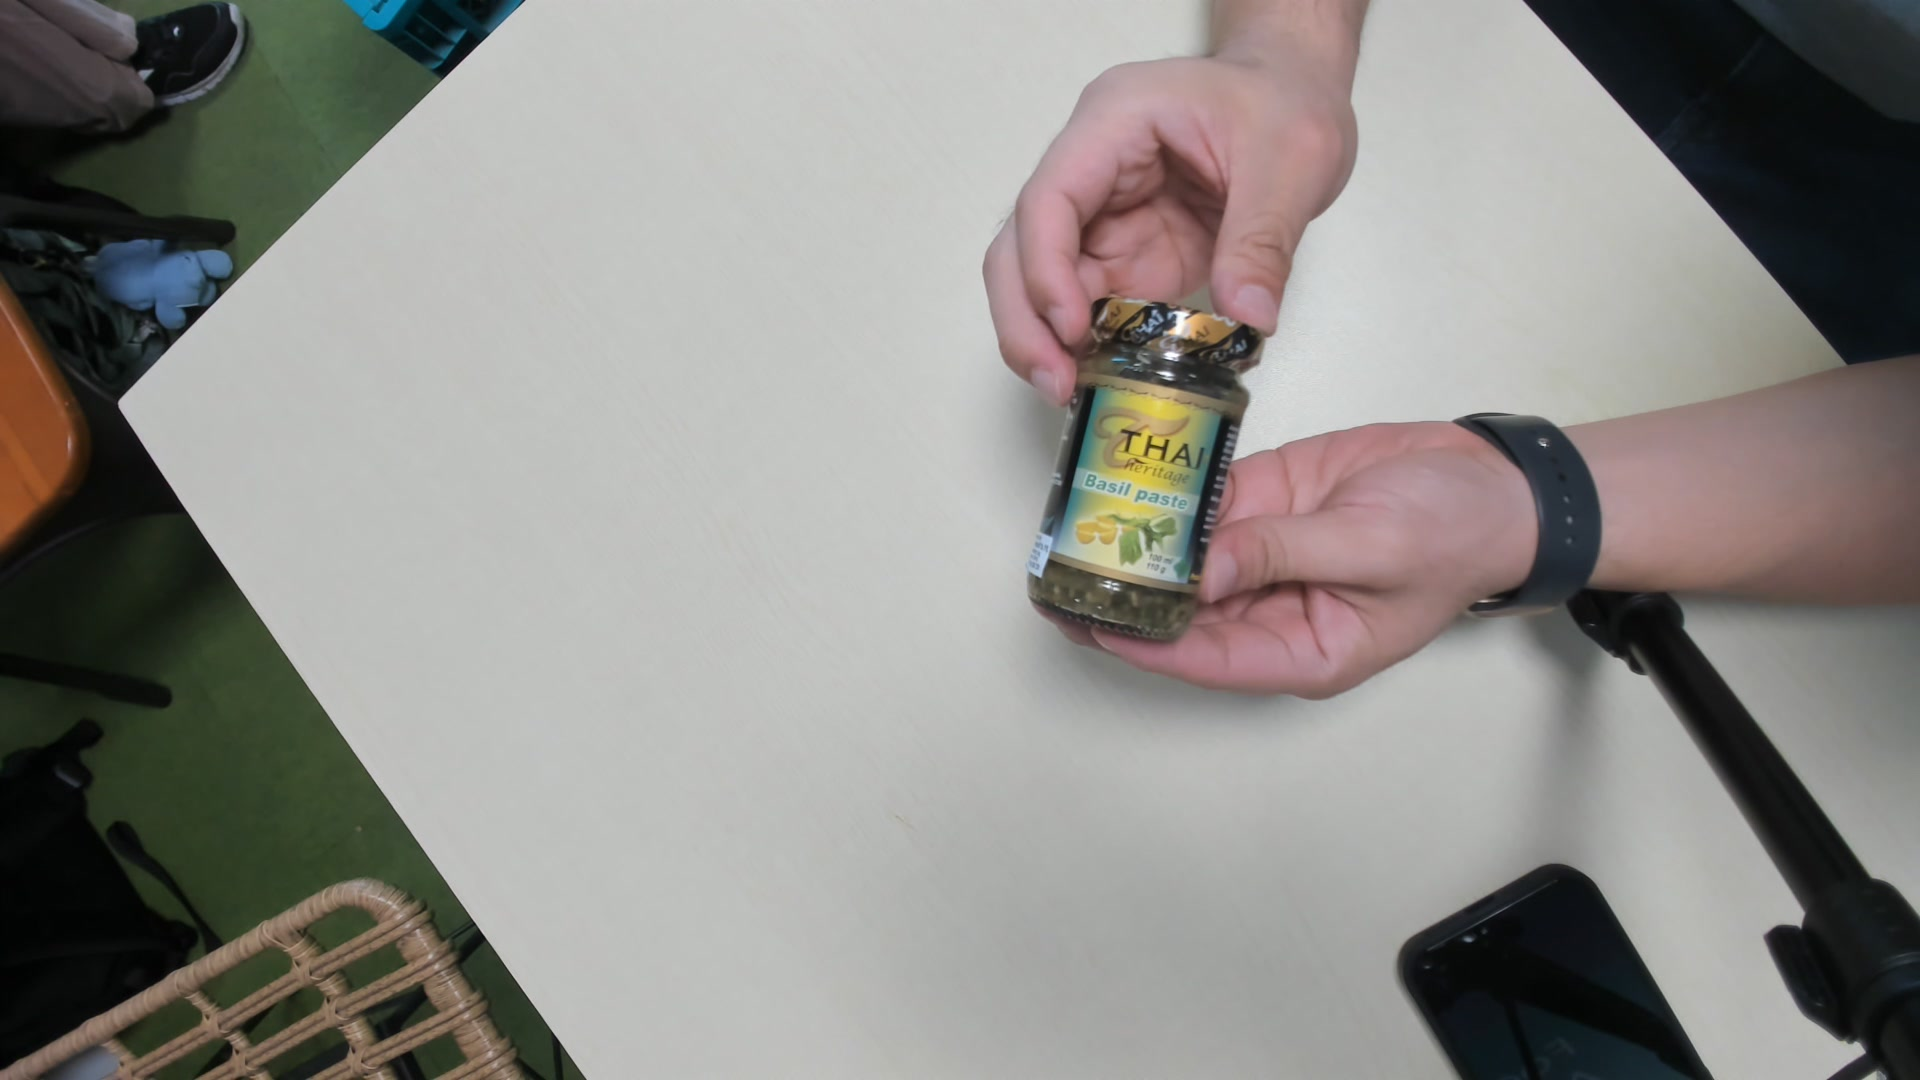OtherSauceDressing_0-99g_Halal_NonHealthy: (1029, 287, 1269, 645)
